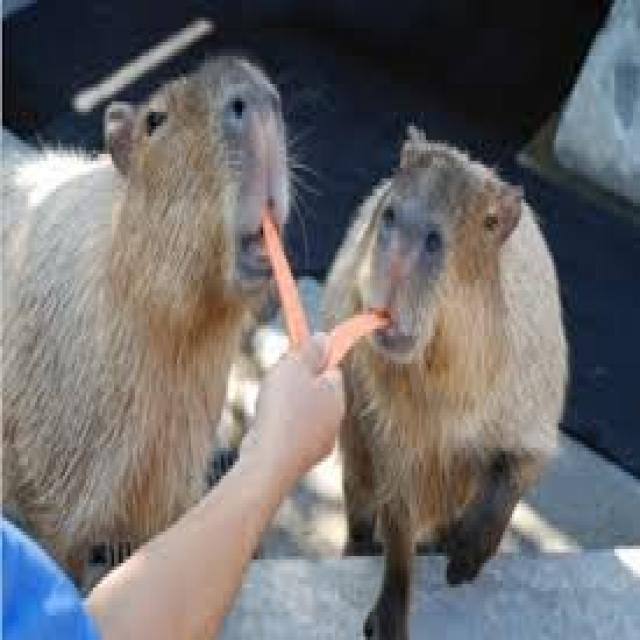capy: (0, 59, 290, 576), (322, 121, 568, 640)
